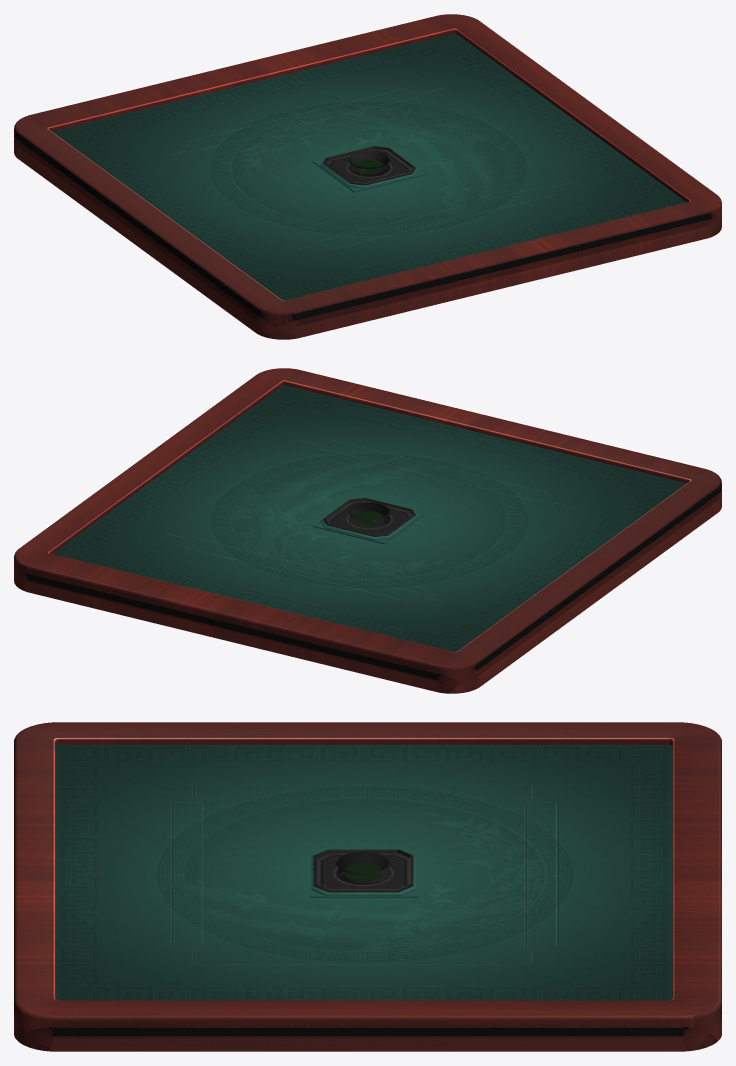
Rendered from majiangzhuo.FBX.
3 renders of one model, top to bottom at view 1: azimuth 30°, elevation 25°; view 2: azimuth 150°, elevation 25°; view 3: azimuth 270°, elevation 25°, orthographic. The views are drawn at different scales.
Parts seen in each view (by area): view 1: zhuo, gai, DNXB; view 2: zhuo, gai, DNXB; view 3: zhuo, gai, DNXB.
Boxes of the visible parts, x1,y1,x2,y2 form: zhuo: [14, 14, 721, 339]; gai: [165, 87, 571, 249]; DNXB: [313, 144, 426, 192]; zhuo: [14, 368, 721, 693]; gai: [167, 439, 573, 601]; DNXB: [313, 495, 426, 544]; zhuo: [14, 722, 721, 1051]; gai: [172, 785, 557, 963]; DNXB: [309, 849, 418, 897].
Bounding box in the file's own units: 99.22 × 6.46 × 100.
